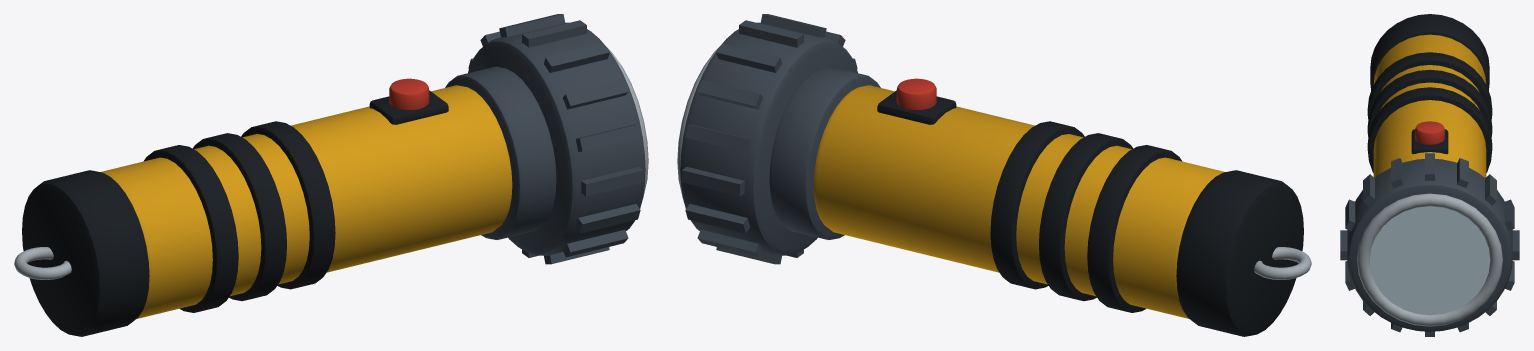
3 views of the same model, side by side, from view 1: azimuth 30°, elevation 25°; view 2: azimuth 150°, elevation 25°; view 3: azimuth 270°, elevation 25° (orthographic). The views are drawn at different scales.
Visible parts, largest first — view 1: kit_inspection_light; view 2: kit_inspection_light; view 3: kit_inspection_light.
Part boxes in pixels (x1=…): kit_inspection_light: x1=14, y1=14, x2=648, y2=336; kit_inspection_light: x1=677, y1=14, x2=1311, y2=336; kit_inspection_light: x1=1340, y1=14, x2=1519, y2=336.
Size of the model in its own units: 0.3016 by 0.108 by 0.108.
